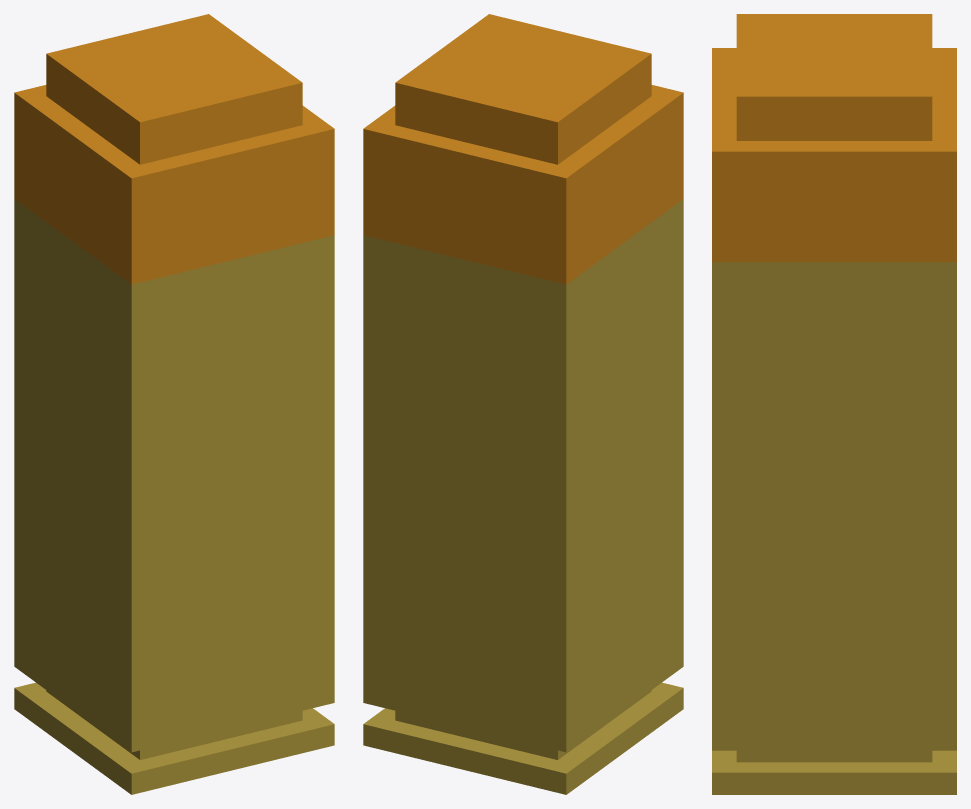
The model's file is heavy_pistol_bullet.fbx.
3 renders of one model, left to right at view 1: azimuth 30°, elevation 25°; view 2: azimuth 150°, elevation 25°; view 3: azimuth 270°, elevation 25°, orthographic. The views are drawn at different scales.
Parts seen in each view (by area): view 1: heavy_pistol_capsule, heavy_pistol_bullet; view 2: heavy_pistol_capsule, heavy_pistol_bullet; view 3: heavy_pistol_capsule, heavy_pistol_bullet.
Boxes of the visible parts, box(x1,y1,x2,y2) form: heavy_pistol_capsule: box(14, 199, 334, 794); heavy_pistol_bullet: box(14, 14, 334, 284); heavy_pistol_capsule: box(363, 199, 683, 794); heavy_pistol_bullet: box(363, 14, 683, 284); heavy_pistol_capsule: box(712, 262, 956, 794); heavy_pistol_bullet: box(712, 14, 956, 262).
Bounding box in the file's own units: 3 × 9.3 × 3.
